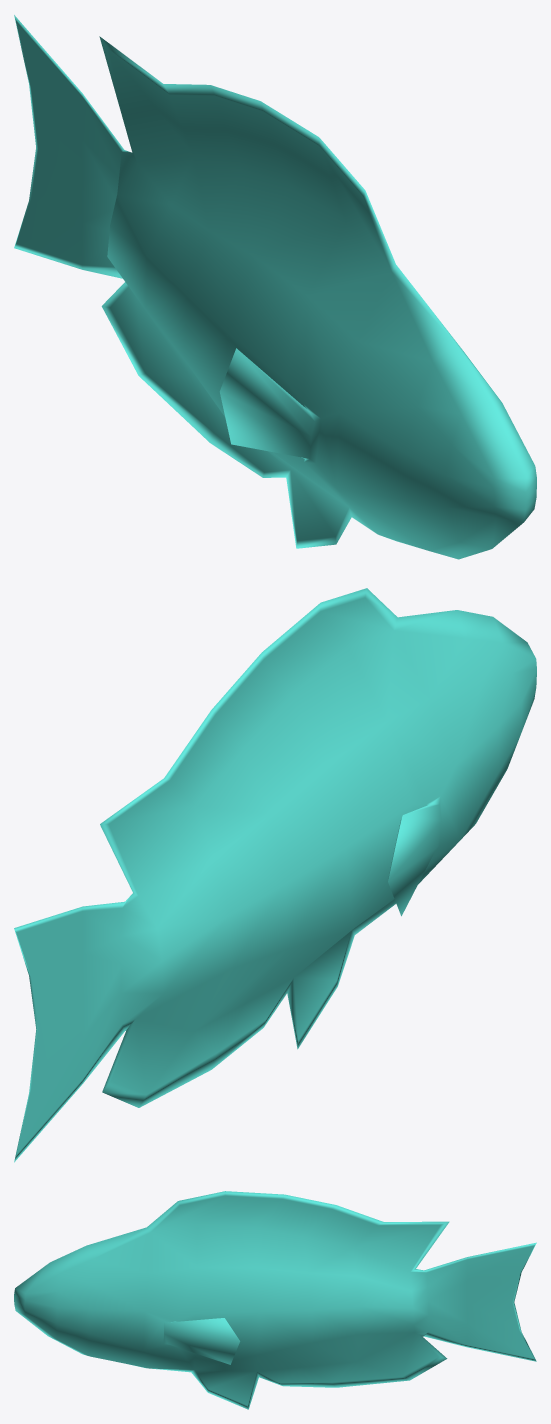
Rendered from fish.glb.
3 renders of one model, top to bottom at view 1: azimuth 30°, elevation 25°; view 2: azimuth 150°, elevation 25°; view 3: azimuth 270°, elevation 25°, orthographic. The views are drawn at different scales.
Visible parts, largest first — view 1: FISH; view 2: FISH; view 3: FISH.
Boxes of the visible parts, x1,y1,x2,y2 form: FISH: [14, 15, 536, 559]; FISH: [14, 588, 536, 1162]; FISH: [14, 1191, 536, 1409].
Size of the model in its own units: 2.03 by 4.58 by 9.92.
